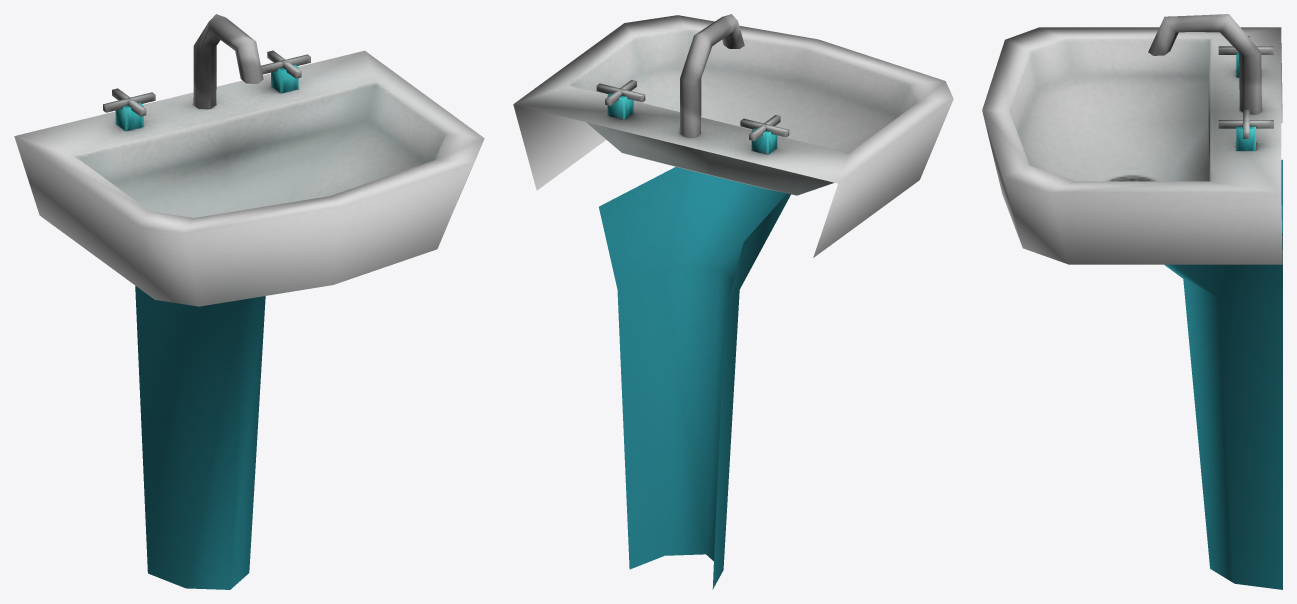
Rendered from Sink.fbx.
3 renders of one model, left to right at view 1: azimuth 30°, elevation 25°; view 2: azimuth 150°, elevation 25°; view 3: azimuth 270°, elevation 25°, orthographic. The views are drawn at different scales.
Parts seen in each view (by area): view 1: Sink; view 2: Sink; view 3: Sink.
Boxes of the visible parts, x1,y1,x2,y2 form: Sink: [14, 14, 484, 589]; Sink: [513, 14, 953, 589]; Sink: [982, 14, 1282, 589].
Size of the model in its own units: 144 by 224 by 111.
